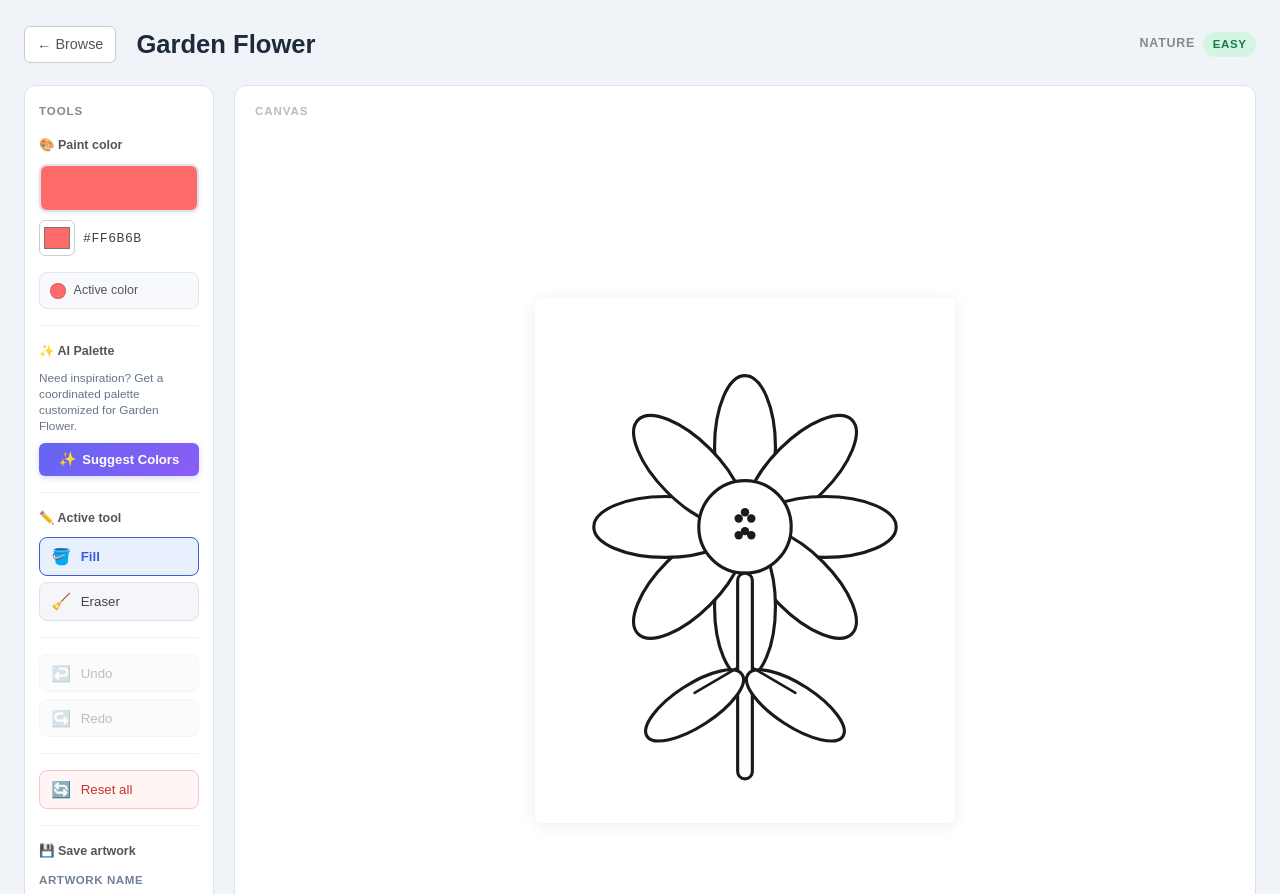
Test: Studio AI Palette Suggestions & Swatches Tests › renders error state with retry button when AI service fails
The width and height of the screenshot is (1280, 894).
Click the button "✨ Suggest Colors". click: (119, 460)
box: [39, 443, 199, 476]
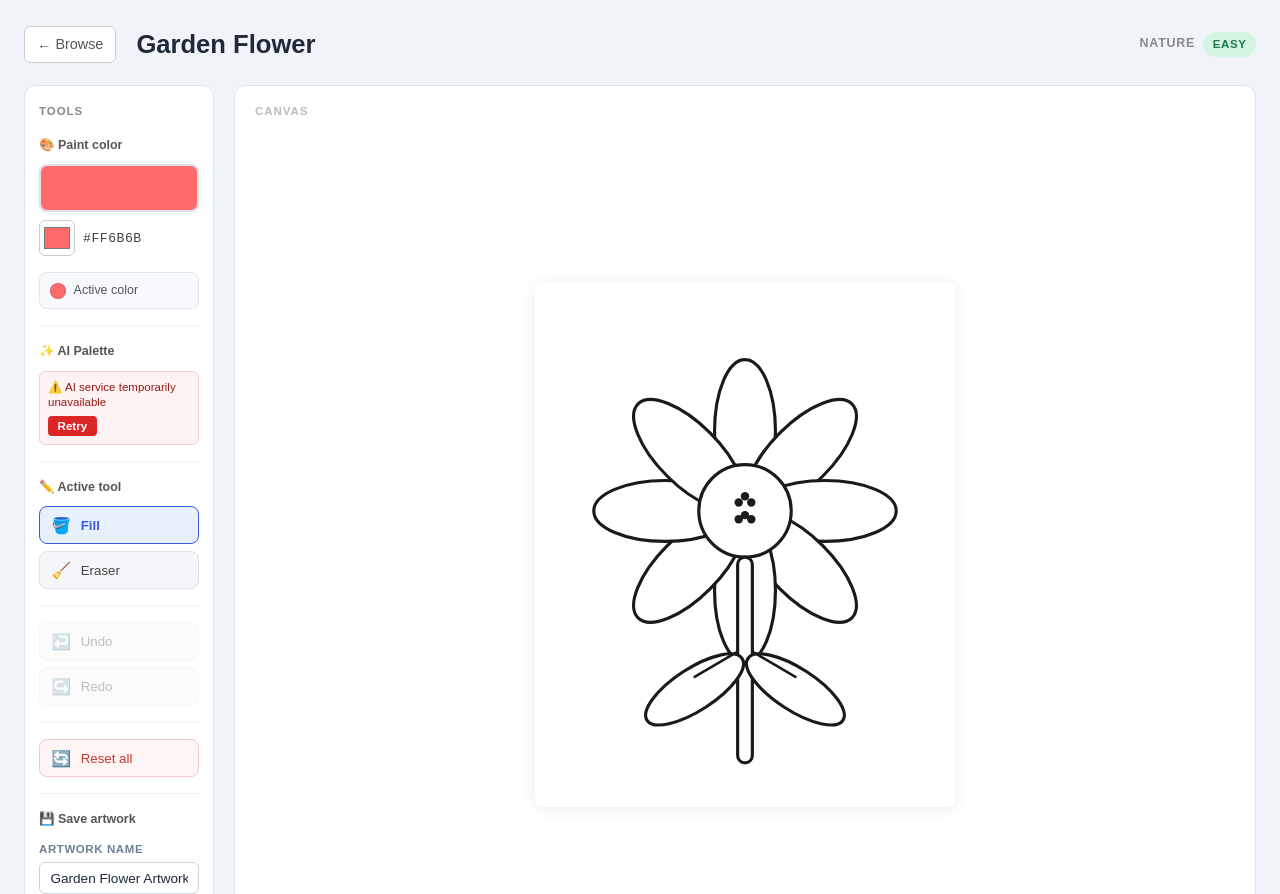
expect the text "⚠️ AI service temporarily unavailable" is shown: met, box [48, 380, 190, 410]
expect the button "Retry" is shown: met
Click the button "Retry". click: (72, 426)
box: [48, 416, 97, 436]
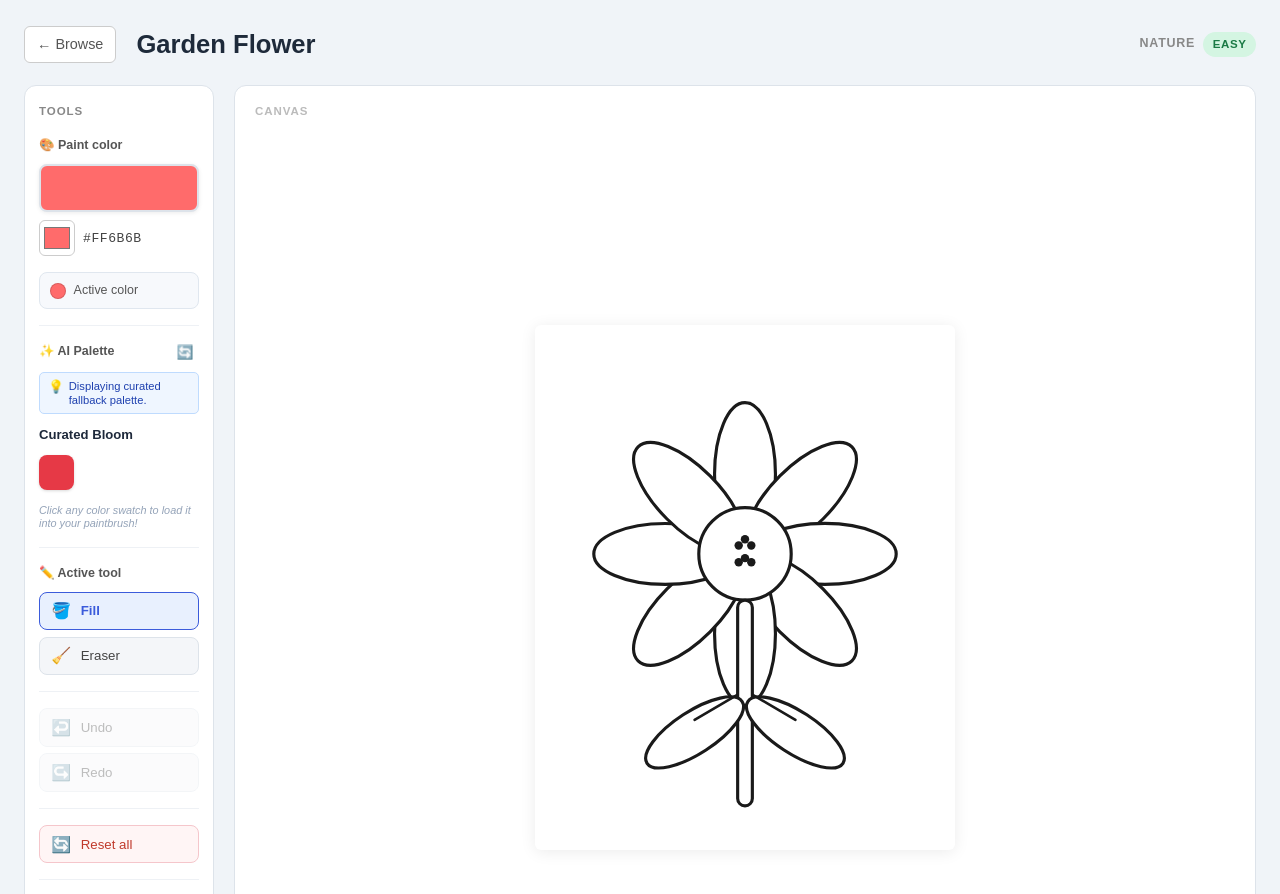
expect the text "Curated Bloom" is shown: met, box [39, 424, 133, 445]
expect the text "Displaying curated fallback palette." is shown: met, box [69, 380, 161, 406]
